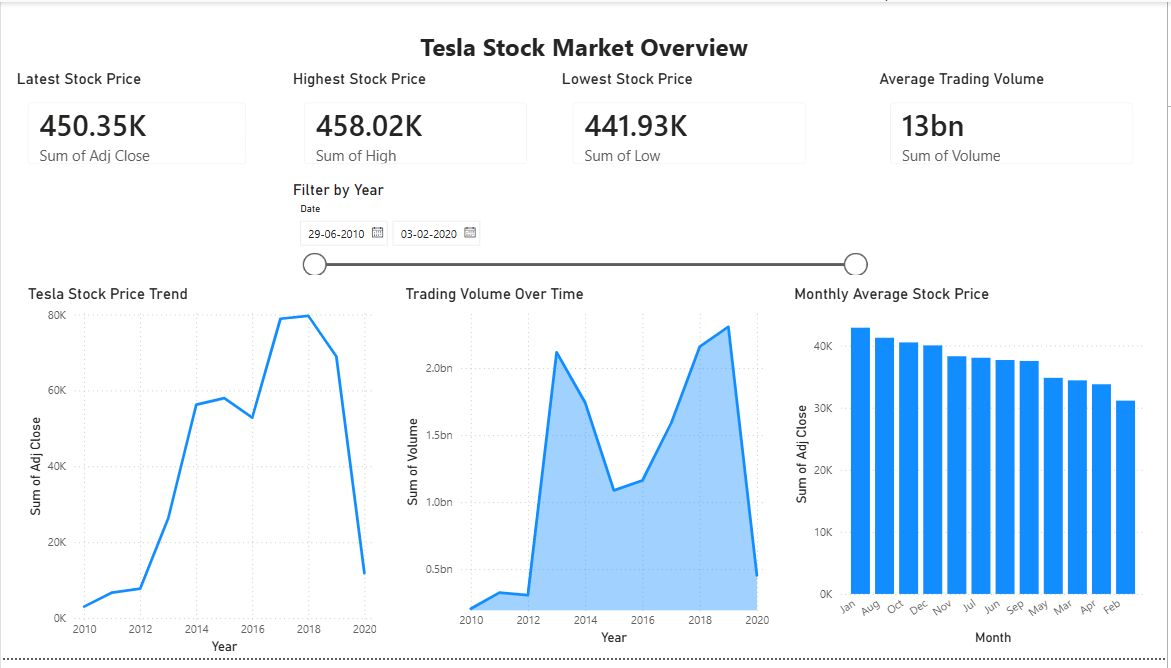

The dashboard page shown, as its layout file describes it:
{"tool":"powerbi","page":{"name":"Page 1","canvas":[1280,720],"ordinal":0},"visuals":[{"type":"cardVisual","title":"Latest Stock Price","fields":{"Data":["Sum(cleaned_tesla_stock.Adj Close)"]},"box":[12.3,74.1,274.4,122.1],"z":0},{"type":"cardVisual","title":"Highest Stock Price","fields":{"Data":["Sum(cleaned_tesla_stock.High)"]},"box":[315.6,74.1,279.9,122.1],"z":1000},{"type":"cardVisual","title":"Lowest Stock Price","fields":{"Data":["Sum(cleaned_tesla_stock.Low)"]},"box":[610.6,74.1,290.9,122.1],"z":2000},{"type":"cardVisual","title":"Average Trading Volume","fields":{"Data":["Sum(cleaned_tesla_stock.Volume)"]},"box":[959.2,74.1,301.9,122.1],"z":3000},{"type":"lineChart","title":"Tesla Stock Price Trend","fields":{"Category":["cleaned_tesla_stock.Date.Variation.Date Hierarchy.Year","cleaned_tesla_stock.Date.Variation.Date Hierarchy.Quarter","cleaned_tesla_stock.Date.Variation.Date Hierarchy.Month","cleaned_tesla_stock.Date.Variation.Date Hierarchy.Day"],"Y":["Sum(cleaned_tesla_stock.Adj Close)"]},"box":[24.7,310.1,392.5,410.3],"z":3001},{"type":"areaChart","title":"Trading Volume Over Time","fields":{"Category":["cleaned_tesla_stock.Date.Variation.Date Hierarchy.Year","cleaned_tesla_stock.Date.Variation.Date Hierarchy.Quarter","cleaned_tesla_stock.Date.Variation.Date Hierarchy.Month","cleaned_tesla_stock.Date.Variation.Date Hierarchy.Day"],"Y":["Sum(cleaned_tesla_stock.Volume)"]},"box":[439.1,310.1,408.9,400.7],"z":3002},{"type":"lineClusteredColumnComboChart","title":"Monthly Average Stock Price","fields":{"Category":["cleaned_tesla_stock.Month"],"Y":["Sum(cleaned_tesla_stock.Adj Close)"]},"box":[865.9,310.1,395.2,400.7],"z":3003},{"type":"slicer","title":"Filter by Year","fields":{"Values":["cleaned_tesla_stock.Date"]},"box":[344.4,196.2,643.6,102.9],"z":3004},{"type":"textbox","box":[0,26.1,1280.3,48],"z":3005}]}

Visuals, with their boxes in screenshot pixels (x1, y1, x2, y2), scaled from the page's 1280x720 canvas onto the 1171x668 screenshot:
"Latest Stock Price" cardVisual: {"left": 11, "top": 69, "right": 262, "bottom": 182}
"Highest Stock Price" cardVisual: {"left": 289, "top": 69, "right": 545, "bottom": 182}
"Lowest Stock Price" cardVisual: {"left": 559, "top": 69, "right": 825, "bottom": 182}
"Average Trading Volume" cardVisual: {"left": 878, "top": 69, "right": 1154, "bottom": 182}
"Tesla Stock Price Trend" lineChart: {"left": 23, "top": 288, "right": 382, "bottom": 667}
"Trading Volume Over Time" areaChart: {"left": 402, "top": 288, "right": 776, "bottom": 659}
"Monthly Average Stock Price" lineClusteredColumnComboChart: {"left": 792, "top": 288, "right": 1154, "bottom": 659}
"Filter by Year" slicer: {"left": 315, "top": 182, "right": 904, "bottom": 277}
textbox: {"left": 0, "top": 24, "right": 1170, "bottom": 69}
